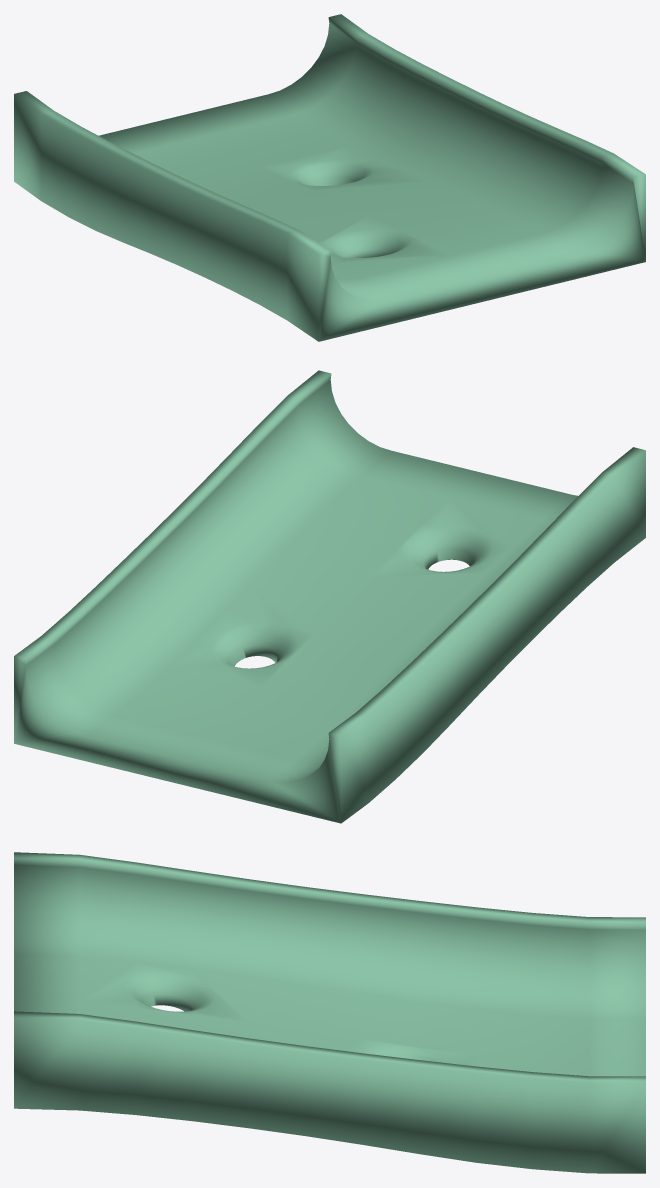
File: HoleTrack.glb
3 renders of one model, top to bottom at view 1: azimuth 30°, elevation 25°; view 2: azimuth 150°, elevation 25°; view 3: azimuth 270°, elevation 25°, orthographic. The views are drawn at different scales.
Parts seen in each view (by area): view 1: Track; view 2: Track; view 3: Track.
Part boxes in pixels (x1,y1,x2,y2): Track: [14, 14, 645, 341]; Track: [14, 370, 645, 823]; Track: [14, 852, 645, 1173].
Bounding box in the file's own units: 46.5 × 20.42 × 75.
